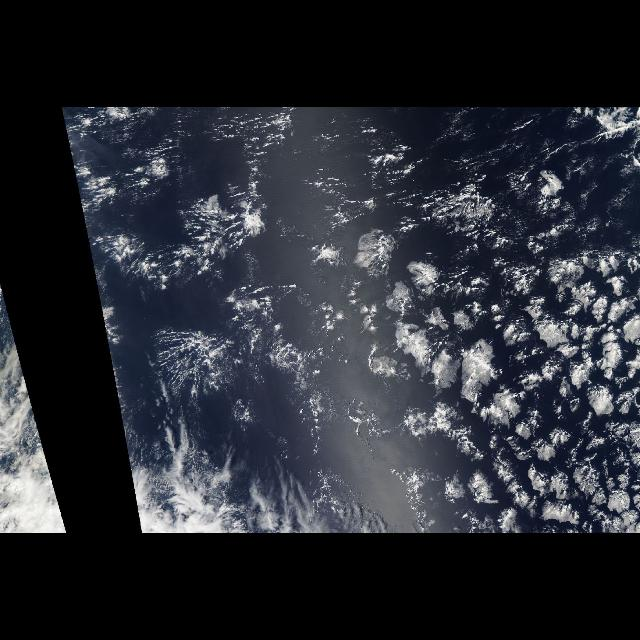Flower: (232, 113, 638, 531)
Sugar: (188, 108, 300, 172)
